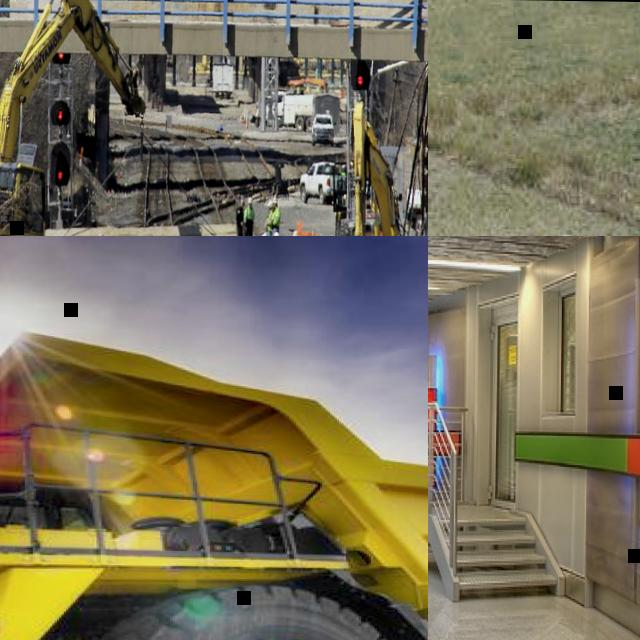Hardhat: (267, 200, 275, 206), (273, 230, 281, 236), (274, 195, 280, 202), (294, 228, 300, 235), (248, 196, 254, 202), (343, 163, 348, 168), (251, 233, 259, 236), (242, 198, 247, 202), (99, 233, 105, 236), (262, 233, 268, 236)
NO-Safety Vest: (237, 205, 245, 224)
Person: (235, 196, 246, 236), (244, 196, 255, 236), (273, 194, 282, 231), (266, 199, 275, 233), (342, 162, 348, 182)
Safety Cone: (243, 101, 247, 120), (311, 225, 317, 236), (246, 112, 250, 128), (240, 110, 244, 122)
Safety Vest: (244, 205, 256, 225), (266, 208, 274, 230), (273, 206, 281, 225), (342, 170, 348, 180)
vehicle: (0, 322, 428, 640), (0, 0, 145, 236), (337, 98, 428, 236), (267, 89, 341, 132), (300, 158, 347, 203), (311, 112, 338, 144), (210, 64, 234, 98)
